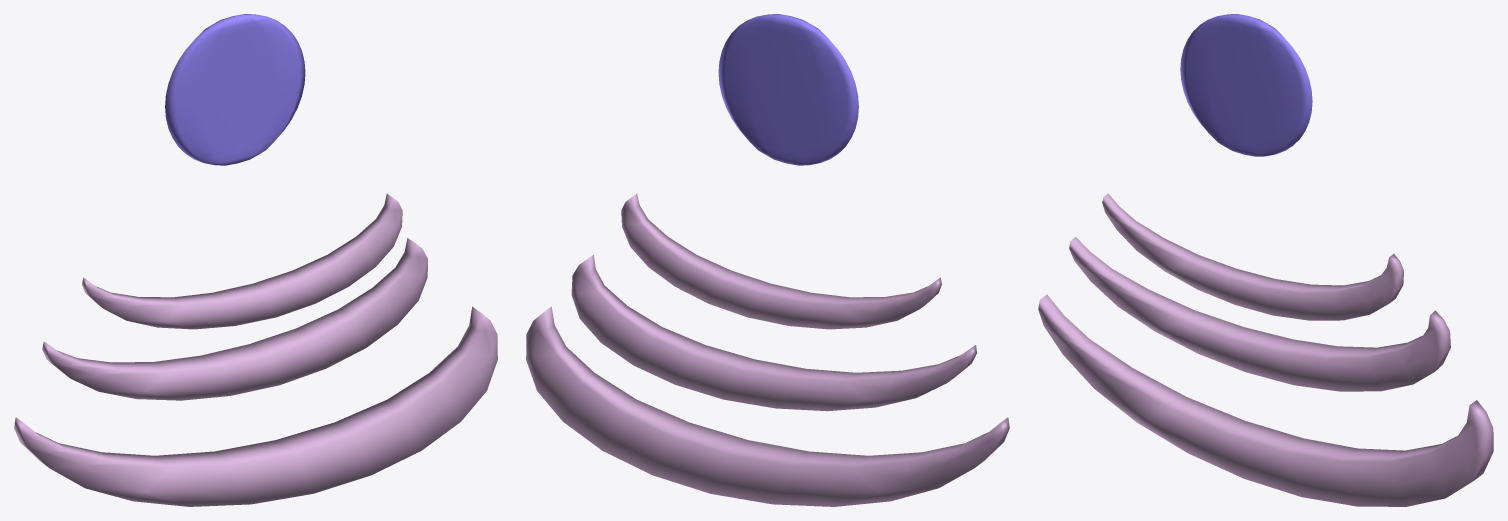
Rendered from DianaOrn.fbx.
3 views of the same model, side by side, from view 1: azimuth 30°, elevation 25°; view 2: azimuth 150°, elevation 25°; view 3: azimuth 330°, elevation 25° (orthographic). The views are drawn at different scales.
Parts seen in each view (by area): view 1: pCylinder11, pCylinder12, pCylinder14, pCylinder13; view 2: pCylinder11, pCylinder12, pCylinder14, pCylinder13; view 3: pCylinder11, pCylinder12, pCylinder14, pCylinder13.
Part boxes in pixels (x1=…): pCylinder11: x1=14, y1=306, x2=497, y2=506; pCylinder12: x1=42, y1=238, x2=427, y2=400; pCylinder14: x1=165, y1=14, x2=305, y2=165; pCylinder13: x1=82, y1=193, x2=402, y2=329; pCylinder11: x1=526, y1=306, x2=1009, y2=506; pCylinder12: x1=571, y1=254, x2=976, y2=411; pCylinder14: x1=718, y1=14, x2=858, y2=165; pCylinder13: x1=621, y1=193, x2=941, y2=329; pCylinder11: x1=1038, y1=294, x2=1493, y2=506; pCylinder12: x1=1069, y1=236, x2=1450, y2=391; pCylinder14: x1=1180, y1=14, x2=1312, y2=156; pCylinder13: x1=1102, y1=193, x2=1403, y2=320.
Size of the model in its own units: 3.28 by 3.21 by 0.3528.
